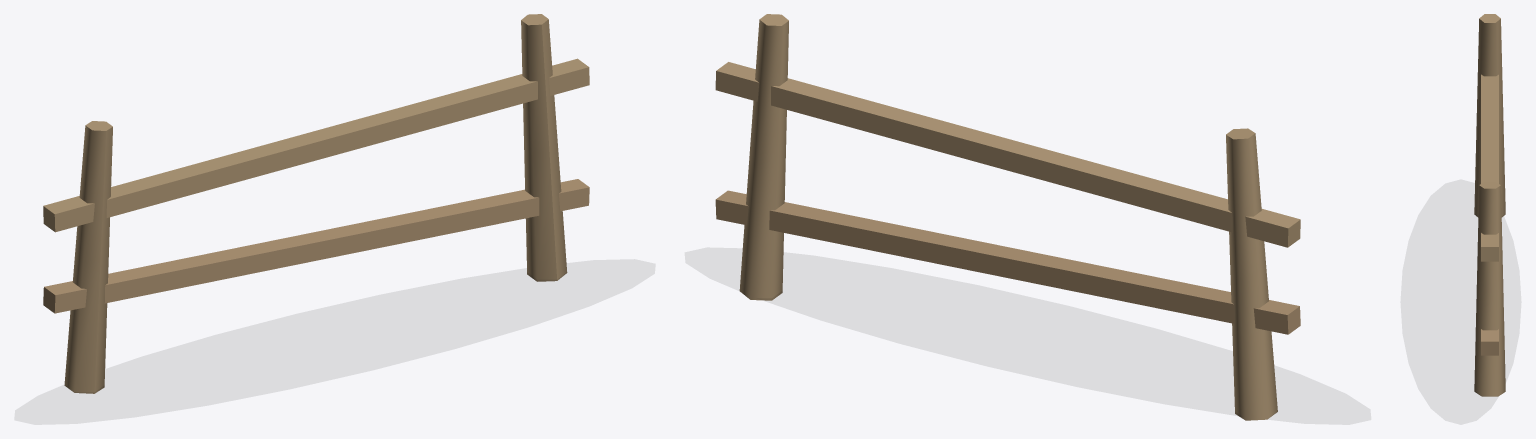
Rendered from fence_segment.glb.
3 views of the same model, side by side, from view 1: azimuth 30°, elevation 25°; view 2: azimuth 150°, elevation 25°; view 3: azimuth 270°, elevation 25° (orthographic). The views are drawn at different scales.
Visible parts, largest first — view 1: cross_rail_1, cross_rail_0, wood_post_0, wood_post_1; view 2: cross_rail_1, cross_rail_0, wood_post_0, wood_post_1; view 3: wood_post_1, wood_post_0, cross_rail_1, cross_rail_0.
Part boxes in pixels (x1=…): cross_rail_1: x1=43, y1=58, x2=589, y2=232; cross_rail_0: x1=43, y1=179, x2=589, y2=313; wood_post_0: x1=64, y1=121, x2=112, y2=393; wood_post_1: x1=521, y1=14, x2=567, y2=281; cross_rail_1: x1=715, y1=62, x2=1300, y2=247; cross_rail_0: x1=715, y1=190, x2=1300, y2=334; wood_post_0: x1=1226, y1=128, x2=1277, y2=420; wood_post_1: x1=739, y1=14, x2=788, y2=300; wood_post_1: x1=1474, y1=181, x2=1505, y2=396; wood_post_0: x1=1474, y1=14, x2=1505, y2=217; cross_rail_1: x1=1481, y1=74, x2=1498, y2=261; cross_rail_0: x1=1481, y1=329, x2=1498, y2=355.
Size of the model in its own units: 2.4 by 0.9241 by 0.5.
